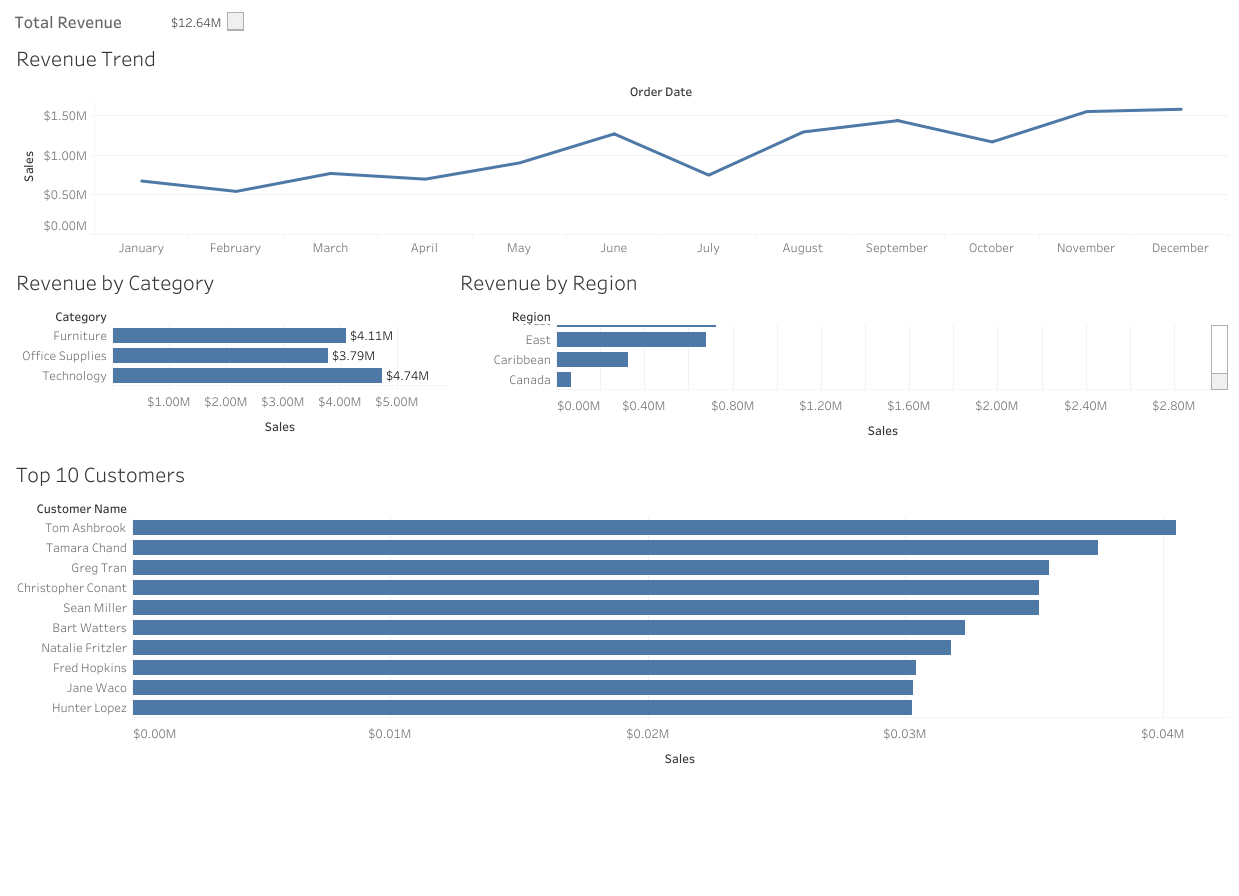

Layout of this report page (visuals, bound fields, positions):
{"tool":"tableau","page":{"name":"Dashboard 1","canvas":[1000,1000],"units":"permille","ordinal":0},"visuals":[{"type":"worksheet","title":"Revenue Trend","mark":"Automatic","rows":["Sales"],"cols":["Order Date"],"box":[6.3,9.9,987.4,490.1]},{"type":"worksheet","title":"Revenue by Category","mark":"Automatic","rows":["Category"],"cols":["Sales"],"box":[6.3,500,987.4,245]},{"type":"worksheet","title":"Revenue by Region","mark":"Automatic","rows":["Region"],"cols":["Sales"],"box":[6.3,745,493.7,245.1]},{"type":"worksheet","title":"Total Revenue","mark":"Automatic","box":[500,745,246.8,245.1]},{"type":"worksheet","title":"Top 10 Customers","mark":"Automatic","rows":["Customer Name"],"cols":["Sales"],"box":[746.9,745,246.8,245.1]}]}

Visuals, with their boxes on the dashboard's canvas, which has no fixed pixel size, in thousandths of its width and height (x1, y1, x2, y2). These are canvas units, not pixel positions in the 1239x896 screenshot, which may show the page scaled, cropped or inside an application window:
"Revenue Trend" worksheet: 6:10:994:500
"Revenue by Category" worksheet: 6:500:994:745
"Revenue by Region" worksheet: 6:745:500:990
"Total Revenue" worksheet: 500:745:747:990
"Top 10 Customers" worksheet: 747:745:994:990
